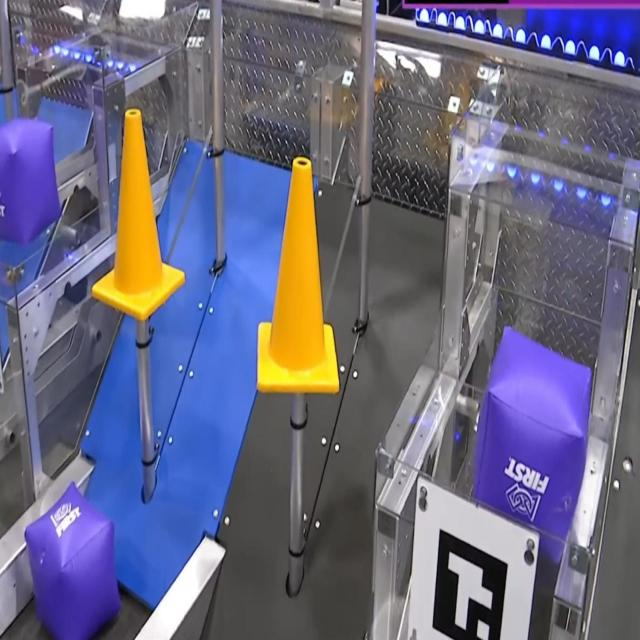frc_cone: (90, 104, 188, 316), (255, 148, 339, 394)
frc_cube: (464, 326, 594, 560), (22, 477, 120, 640), (0, 118, 61, 242)
